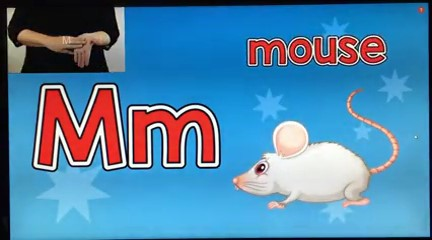M: (42, 29, 103, 70)
